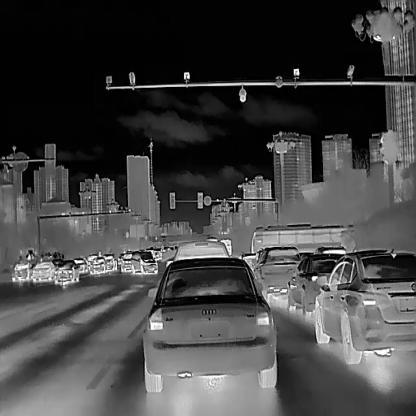car: (143, 256, 277, 392), (314, 248, 415, 363), (286, 252, 356, 315), (249, 223, 356, 252), (250, 245, 302, 296), (54, 259, 80, 285), (30, 259, 57, 283), (130, 250, 157, 272), (11, 262, 33, 281), (90, 256, 106, 274), (120, 252, 133, 272), (103, 254, 117, 272), (73, 257, 88, 273)
